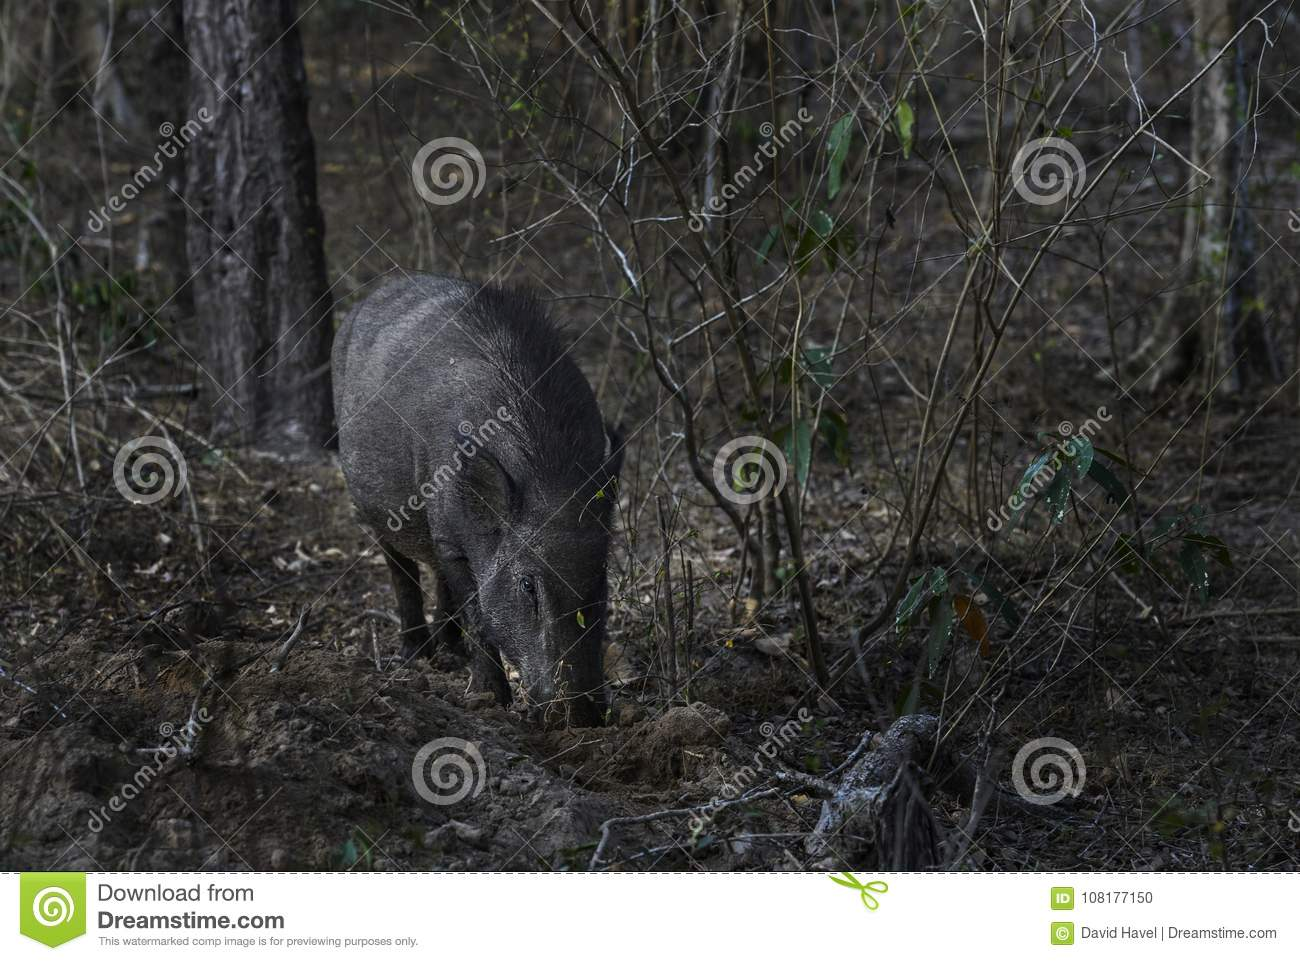wild boar: (306, 254, 650, 729)
